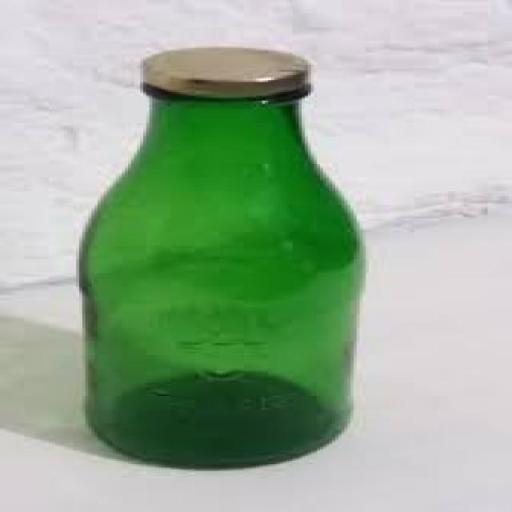glass: (28, 52, 393, 469)
